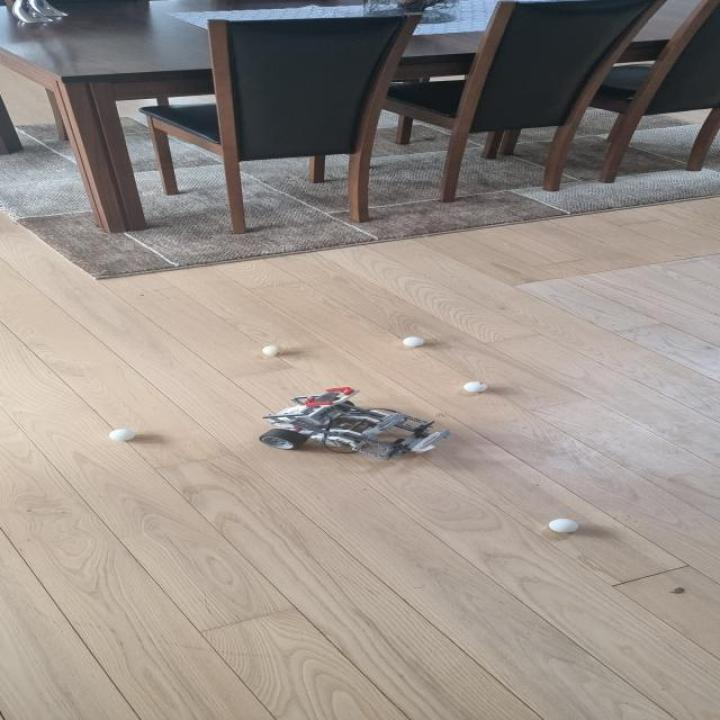robot: (258, 386, 455, 461)
white: (548, 518, 579, 533), (108, 428, 136, 442), (261, 346, 285, 356), (463, 382, 488, 391), (403, 337, 424, 347)
